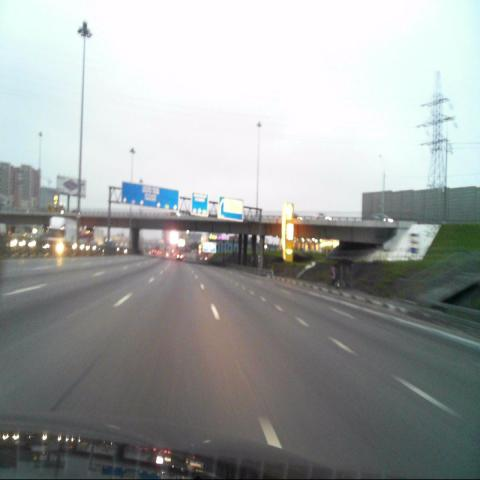5_16: (410, 233, 418, 254)
